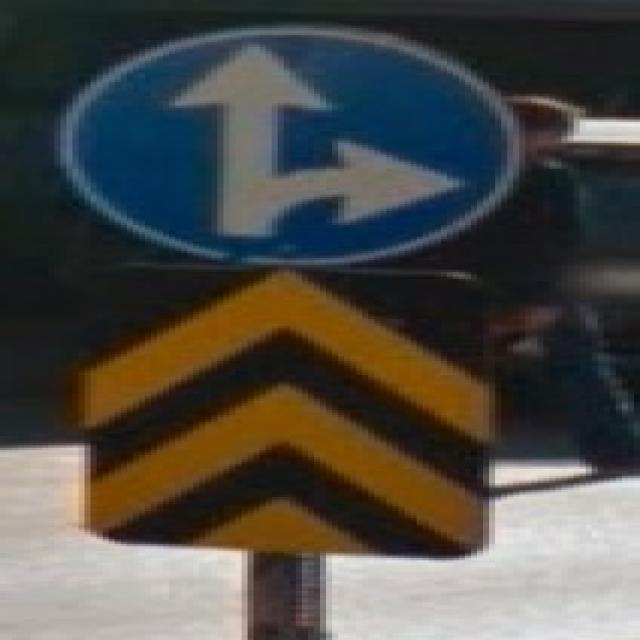Straight or Right: (65, 27, 524, 256)
